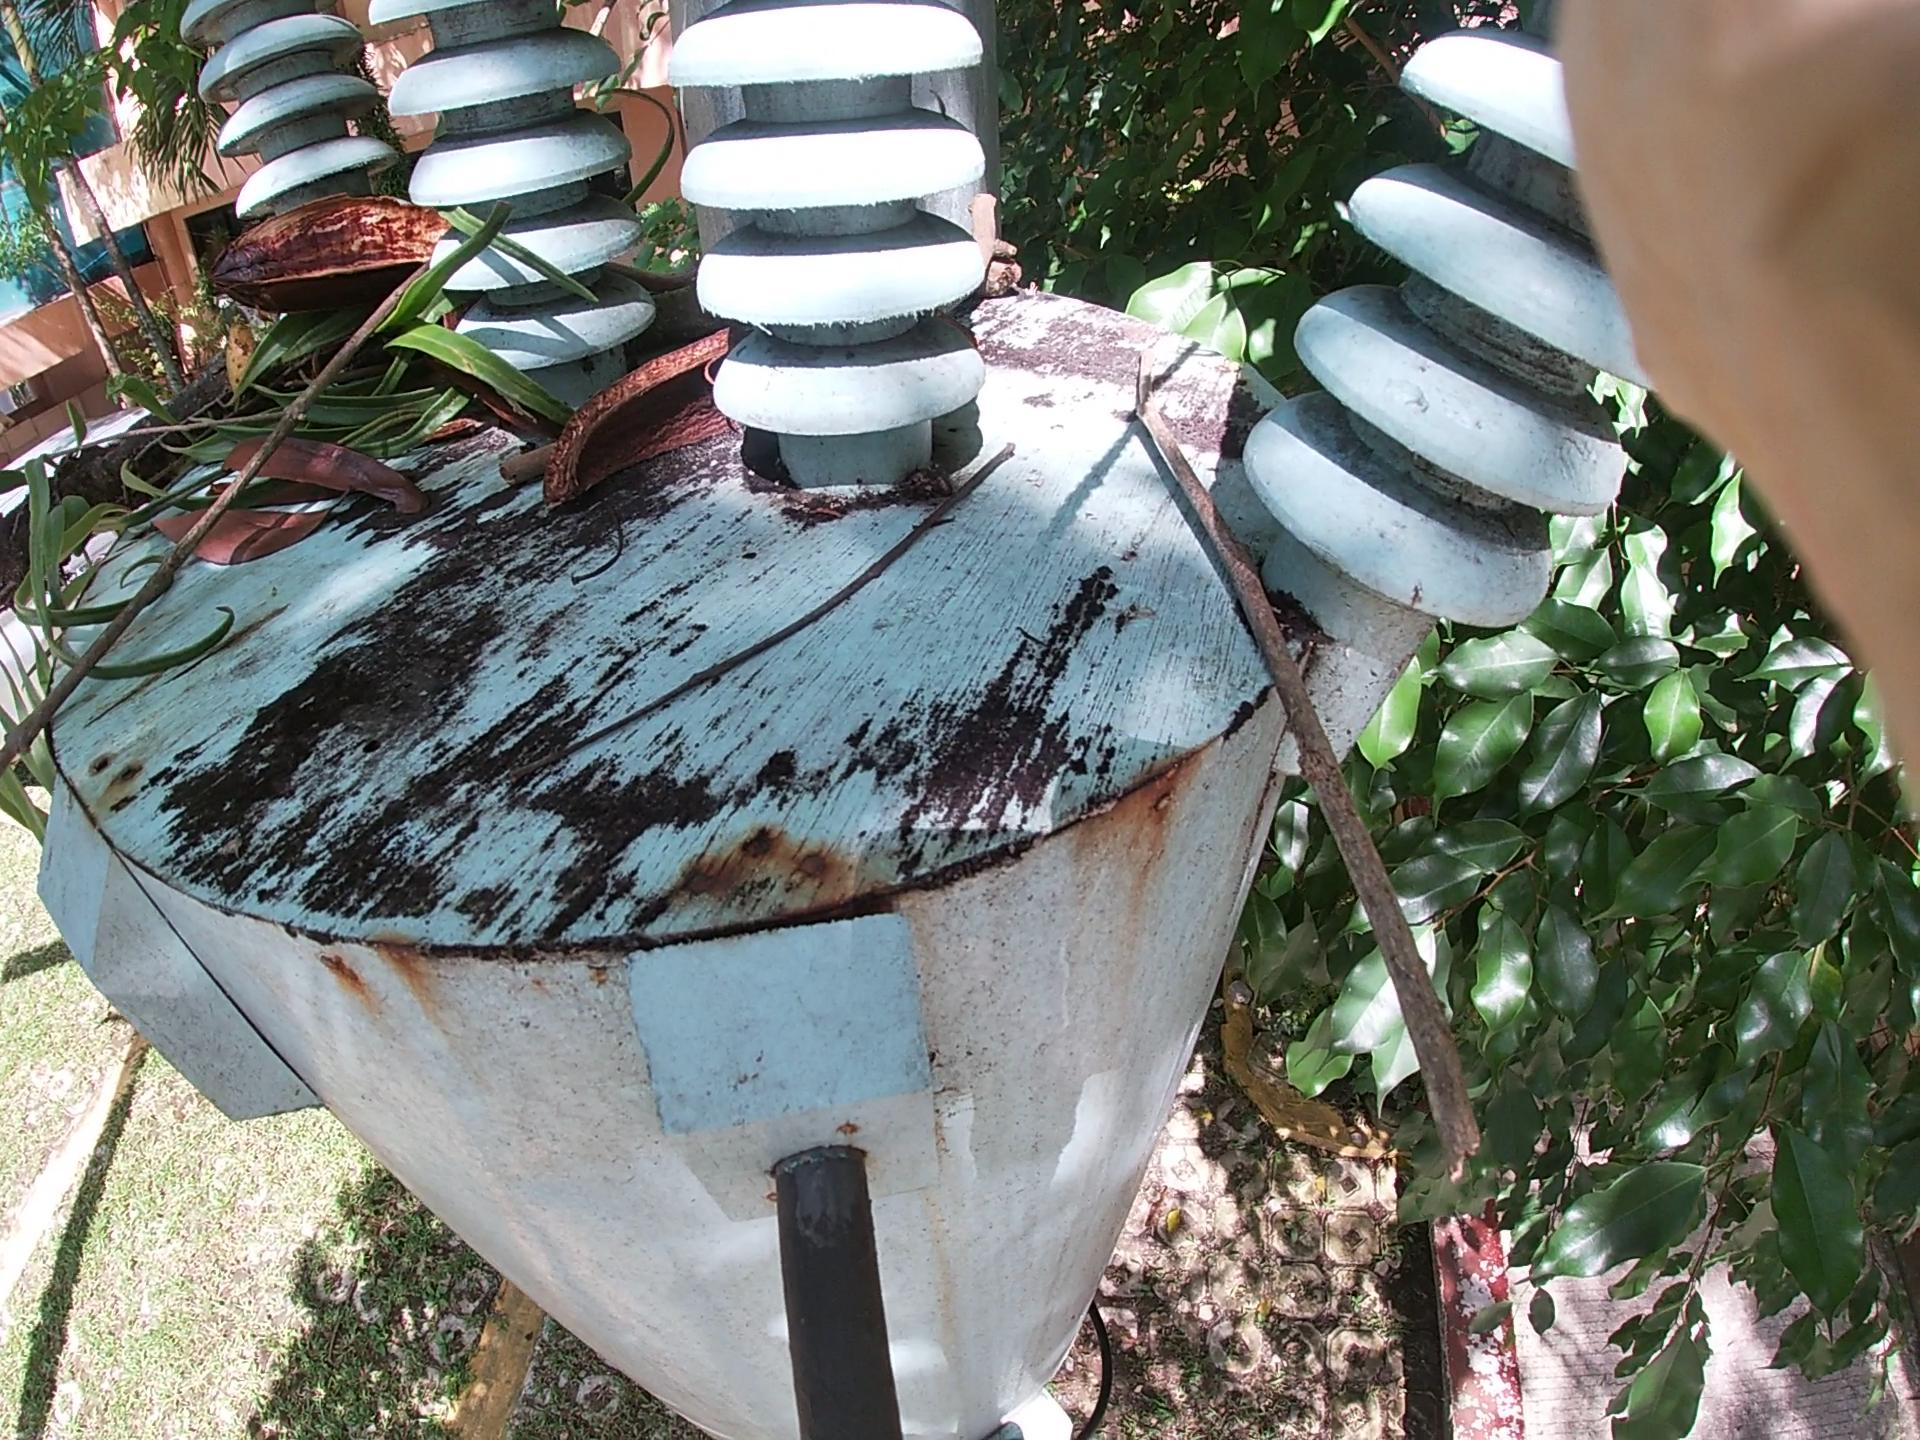branch with leaves: (82, 85, 668, 560)
leaf: (139, 396, 401, 690)
mahogany fruit: (184, 147, 525, 333), (499, 330, 773, 502)
tree branch: (79, 206, 588, 731), (479, 405, 999, 905), (1105, 384, 1423, 1153), (488, 197, 1058, 504)
